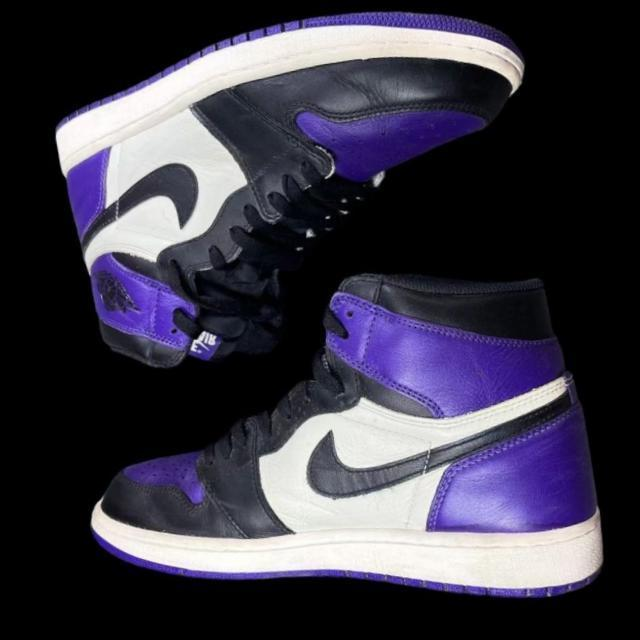nike original jordan 1: (57, 245, 614, 640), (43, 0, 561, 382)
